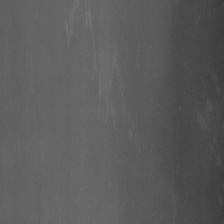silk_spot: (61, 7, 134, 123), (194, 103, 211, 139)
